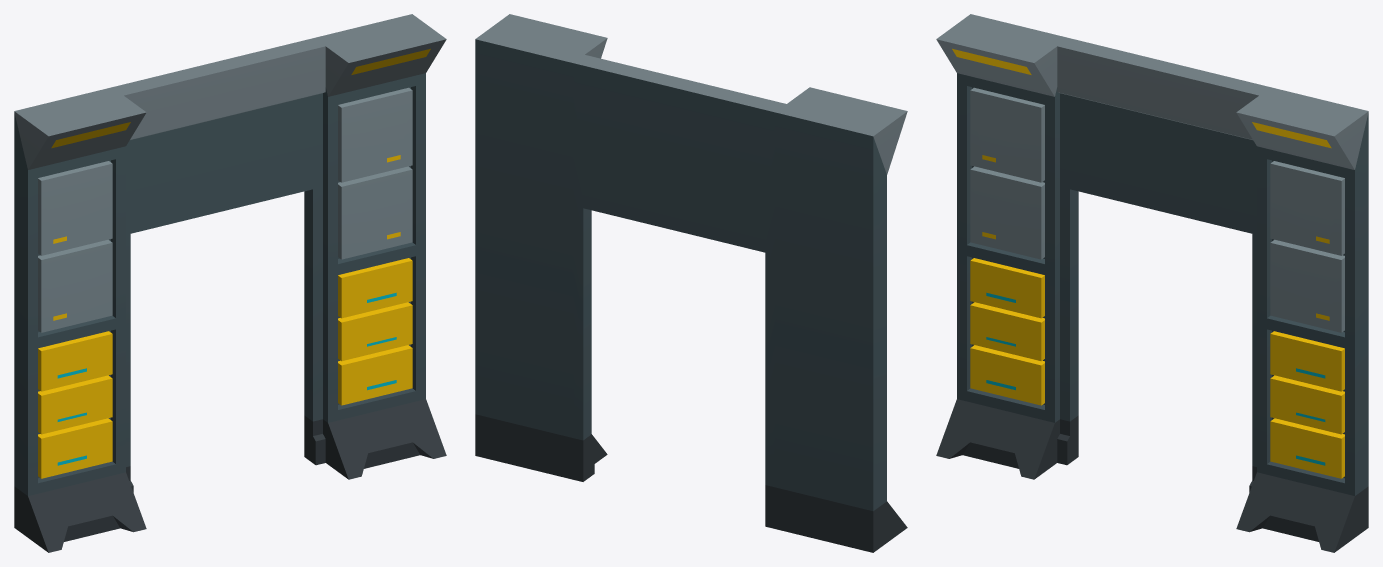
Rendered from Wall_type_C_072.fbx.
3 views of the same model, side by side, from view 1: azimuth 30°, elevation 25°; view 2: azimuth 150°, elevation 25°; view 3: azimuth 330°, elevation 25° (orthographic).
Parts seen in each view (by area): view 1: Wall_type_C_072; view 2: Wall_type_C_072; view 3: Wall_type_C_072.
Boxes of the visible parts, <box> form: Wall_type_C_072: <box>14,14,446,552</box>; Wall_type_C_072: <box>475,14,907,552</box>; Wall_type_C_072: <box>936,14,1368,552</box>.
Bounding box in the file's own units: 400 × 60 × 400.
